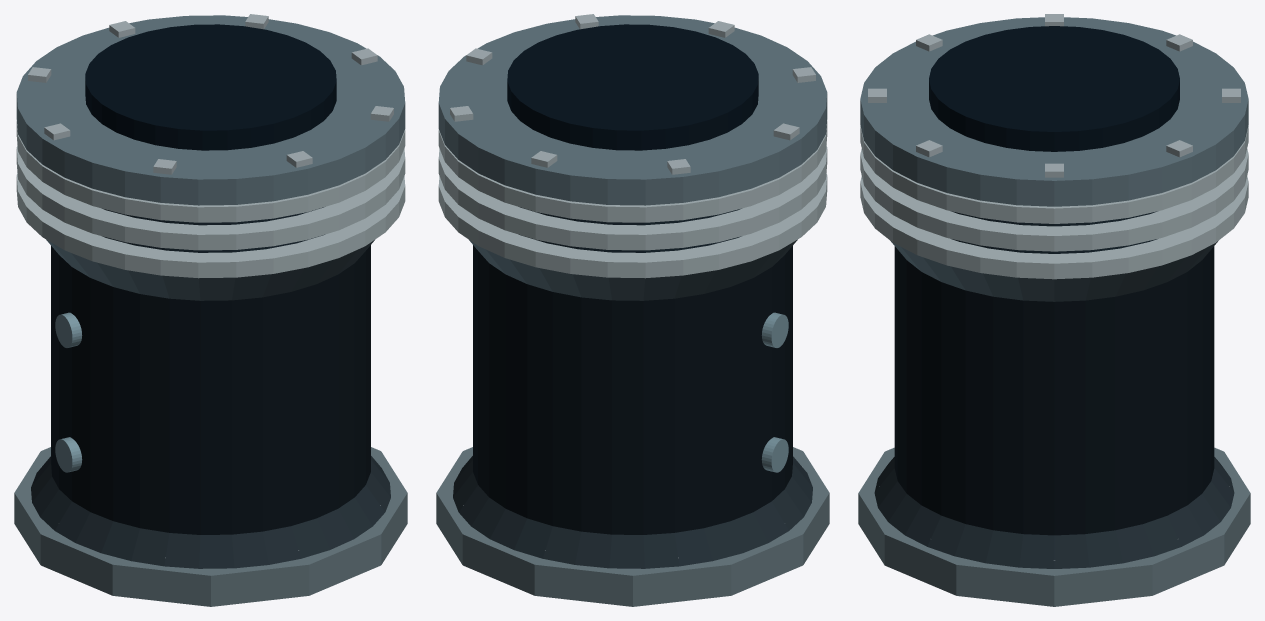
Rendered from SM_ColdBody.fbx.
3 views of the same model, side by side, from view 1: azimuth 30°, elevation 25°; view 2: azimuth 150°, elevation 25°; view 3: azimuth 270°, elevation 25° (orthographic).
Visible parts, largest first — view 1: SM_ColdBody; view 2: SM_ColdBody; view 3: SM_ColdBody.
Boxes of the visible parts, x1,y1,x2,y2 form: SM_ColdBody: (14,14,407,606); SM_ColdBody: (436,14,829,606); SM_ColdBody: (858,14,1250,606).
Size of the model in its own units: 206 by 206 by 258.
